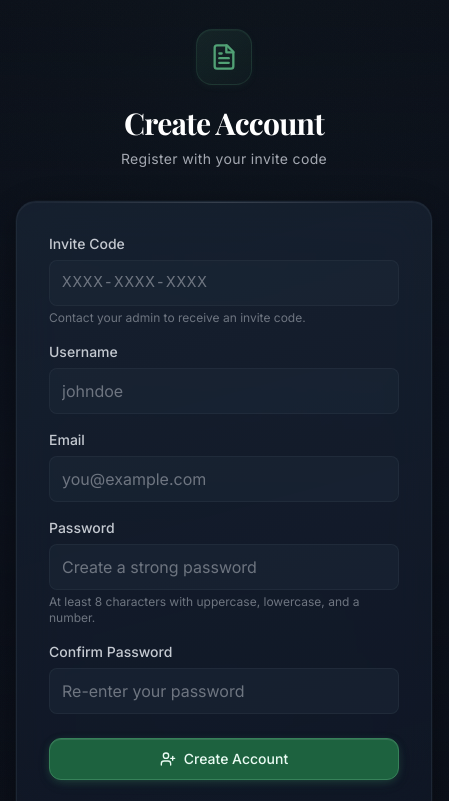
Scenario: RegisterPage › shows error for short username
Type "ABCD1234" into the field labelled "Invite Code" at (224, 283), box [49,260,399,306]
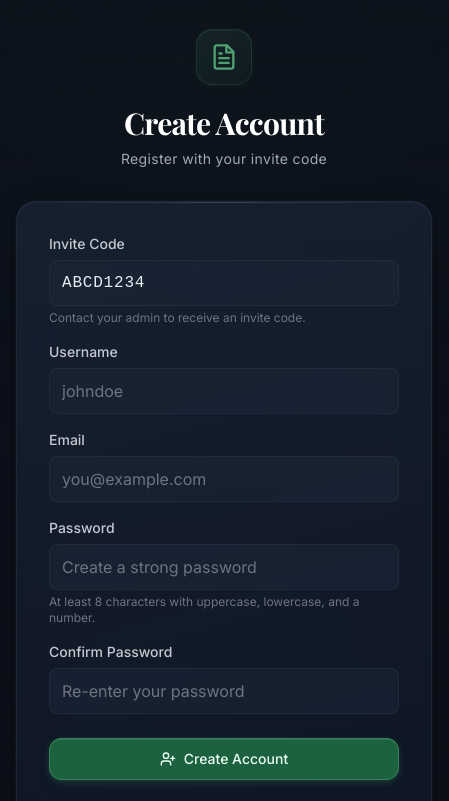
Type "ab" into the field labelled "Username" at (224, 391), box [49,368,399,414]
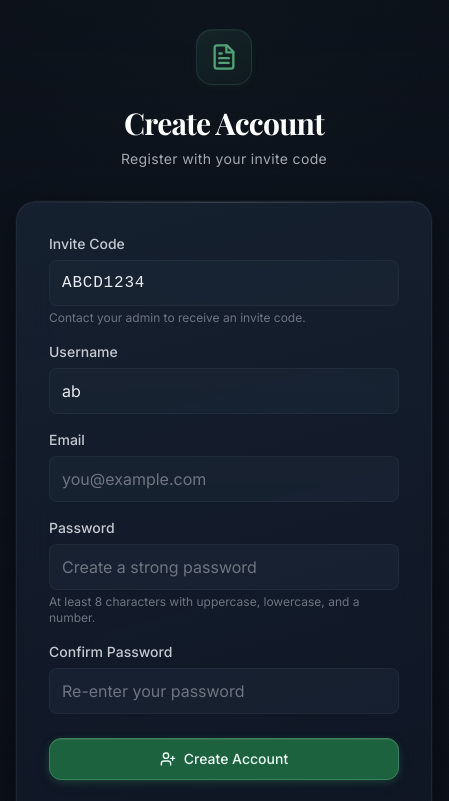
Type "test@example.com" into the field labelled "Email" at (224, 479), box [49,456,399,502]
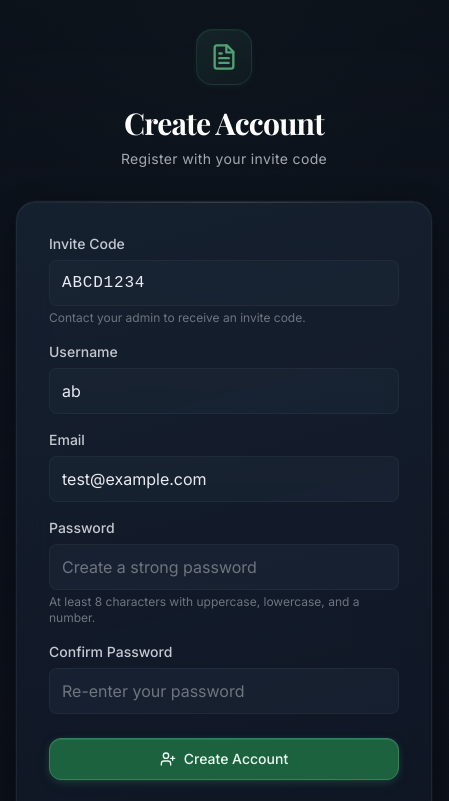
Type "Password1" into the password field labelled "Password" at (224, 567), box [49,544,399,590]
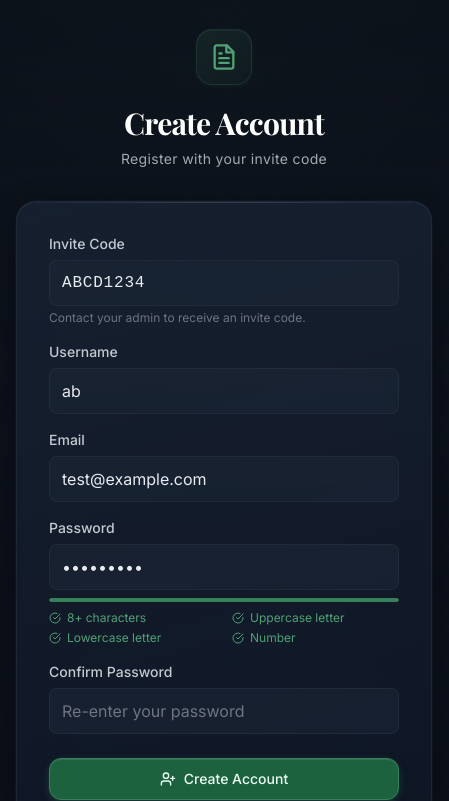
Type "Password1" into the password field labelled "Confirm Password" at (224, 711), box [49,688,399,734]
(page scrolled)
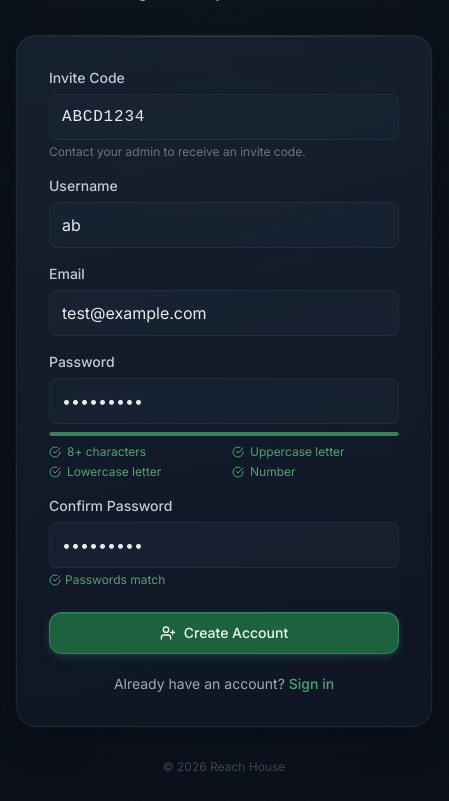
Click the button "Create Account" at (224, 633), box [49,612,399,654]
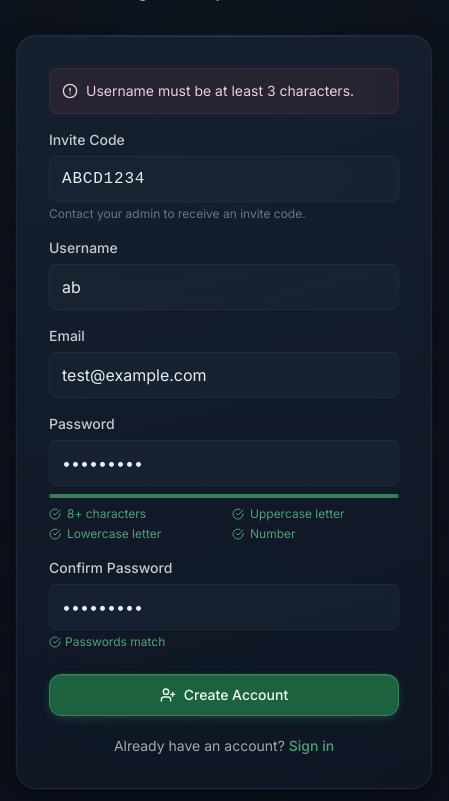
Expected: the text "Username must be at least 3 characters." is shown, [86,81,354,101]
